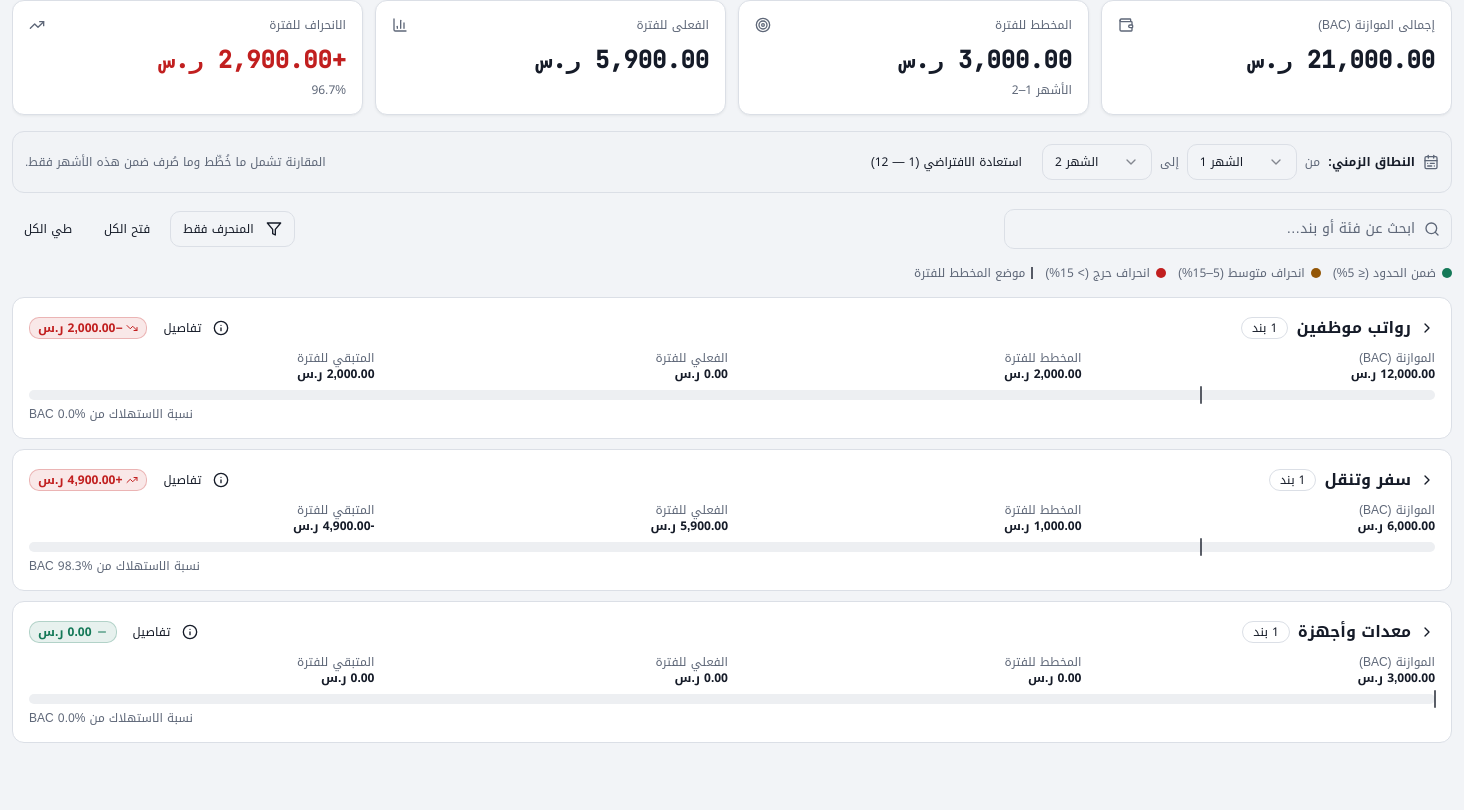
Test: opening, searching and filtering › recomputes the range when its end moves, and offers the default back
Earlier steps of the test are not shown.
Check: the text "المخطط للفترة" shows "3,000.00 ر.س", box [901,44,1072,75]
Check: the text "المخطط للفترة" shows "الأشهر 1–2", box [1012,79,1072,101]
Click the button "استعادة الافتراضي (1 — 12)" at coordinates (946, 162), box [859,146,1034,178]
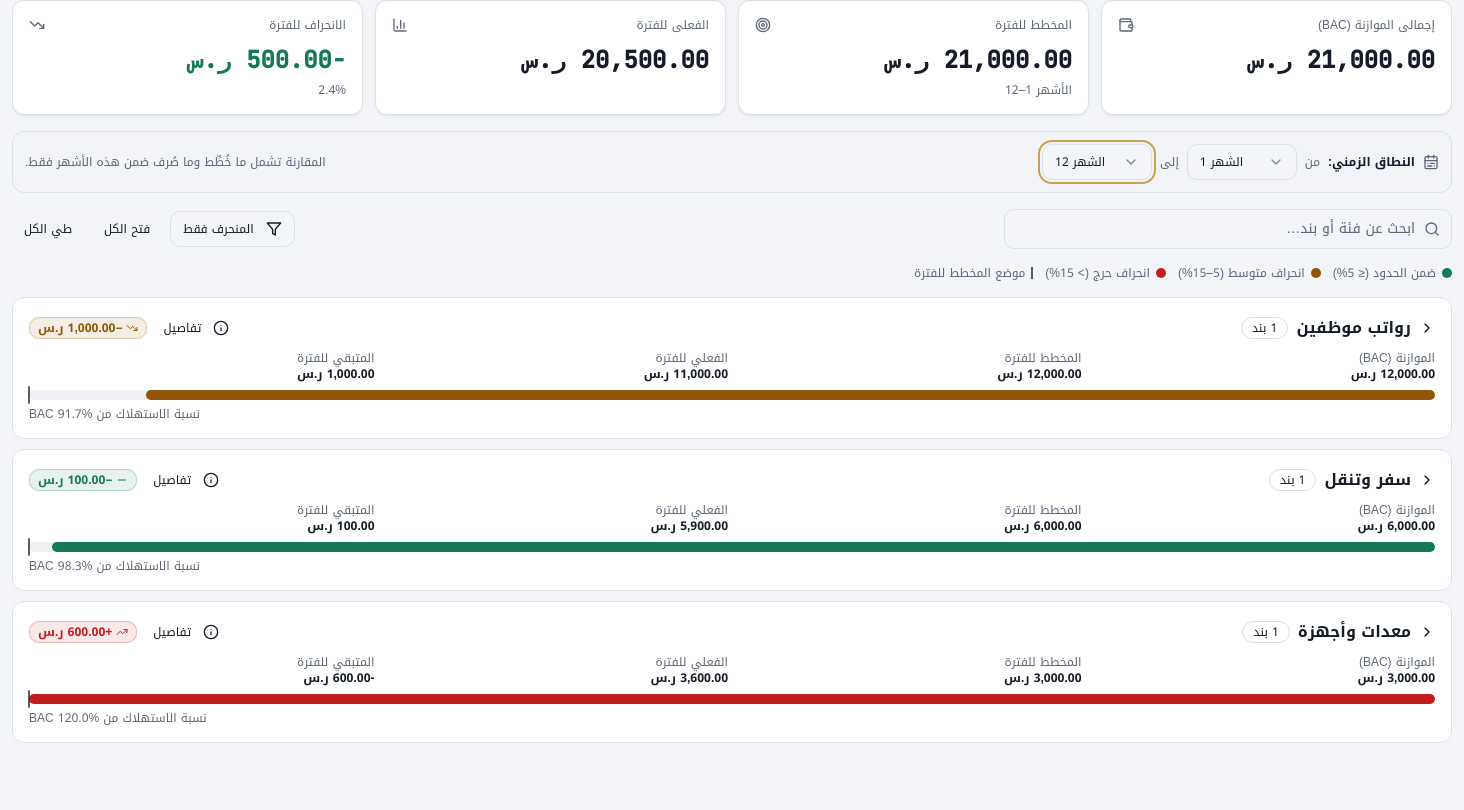
Check: the text "المخطط للفترة" shows "21,000.00 ر.س", box [886,44,1072,75]
